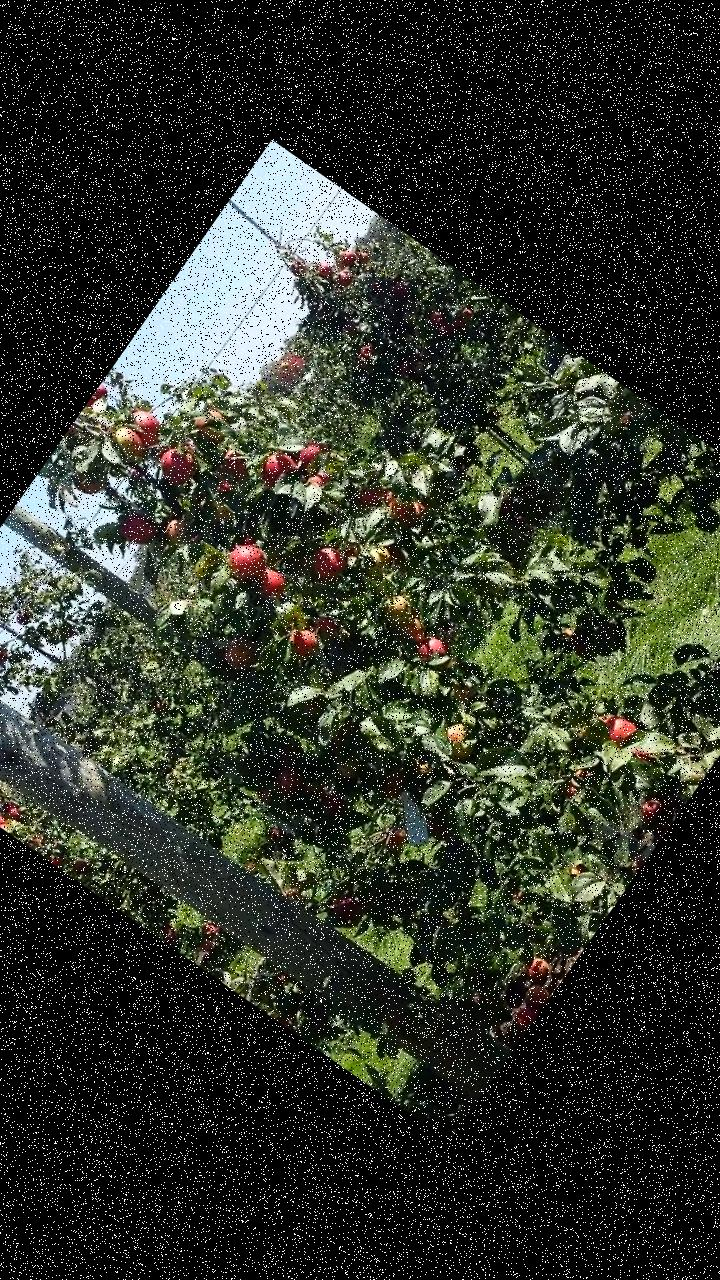Apple: (220, 530, 276, 588), (152, 436, 206, 488), (434, 717, 482, 765), (253, 443, 300, 492), (304, 538, 350, 586), (188, 399, 234, 445), (123, 404, 168, 448), (218, 630, 261, 674), (281, 622, 324, 664), (212, 444, 254, 486), (322, 884, 364, 926), (116, 507, 159, 548), (383, 490, 426, 530), (156, 512, 197, 553), (269, 758, 310, 799), (357, 541, 397, 583), (108, 421, 150, 460), (251, 563, 291, 603), (196, 493, 235, 532), (378, 589, 417, 628), (599, 709, 638, 748), (411, 630, 451, 668), (375, 537, 410, 572), (376, 765, 410, 801), (378, 818, 412, 854), (291, 437, 325, 472), (352, 479, 386, 514), (397, 610, 432, 644), (308, 610, 342, 644), (332, 748, 366, 782), (70, 466, 104, 499), (336, 536, 366, 570), (317, 787, 348, 819), (303, 464, 334, 495), (424, 812, 456, 842), (296, 693, 324, 722), (250, 779, 278, 807), (406, 752, 434, 779), (571, 760, 598, 784), (566, 857, 591, 882), (595, 705, 619, 729), (631, 744, 656, 766), (562, 778, 583, 801), (62, 421, 82, 444), (216, 476, 236, 496), (92, 382, 110, 400), (378, 486, 395, 504), (411, 498, 426, 514), (85, 394, 97, 408)
